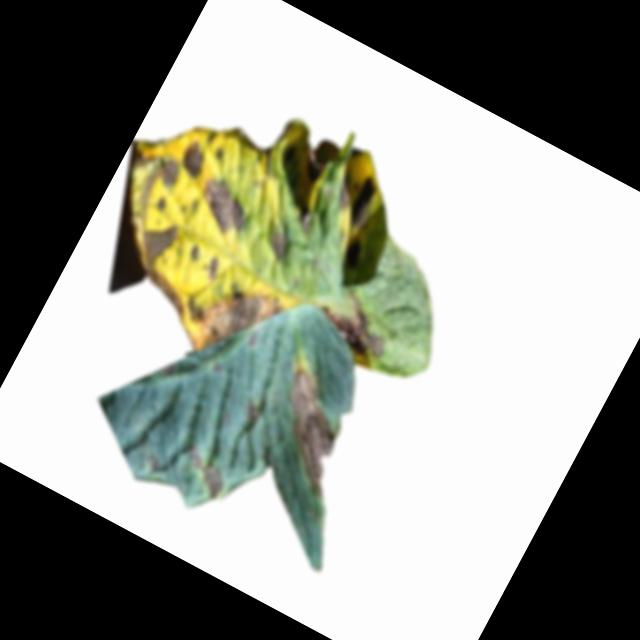Early_blight: (247, 365, 373, 500), (168, 254, 286, 377), (114, 212, 216, 319), (311, 285, 400, 367), (187, 174, 258, 245), (176, 442, 240, 503), (338, 172, 385, 231), (144, 151, 184, 193), (174, 138, 212, 180), (260, 230, 291, 263), (236, 400, 266, 431), (138, 452, 164, 478), (150, 193, 171, 215)
